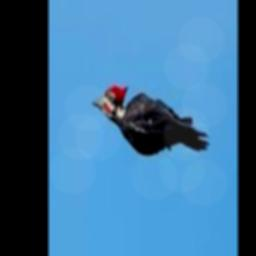Woodpecker: (92, 82, 209, 155)
